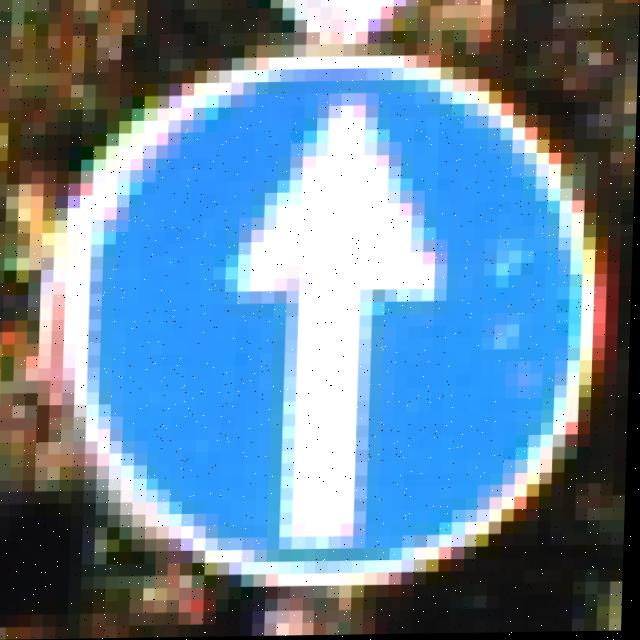compulsory_ahead: (61, 44, 565, 565)
